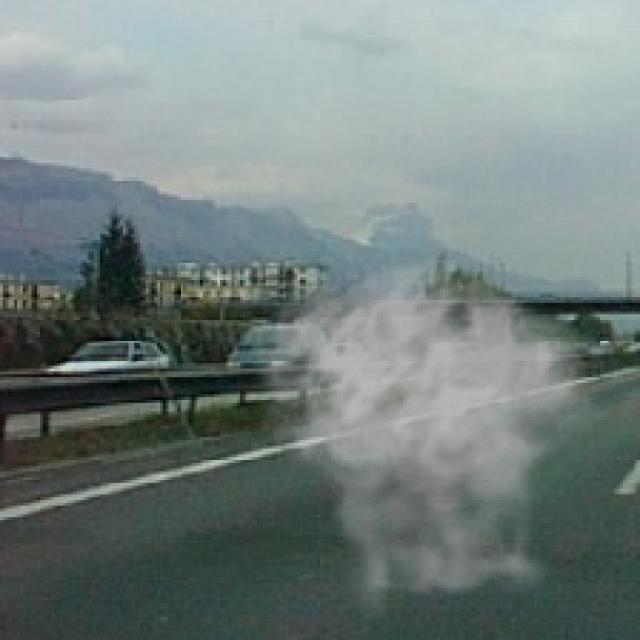smoke: (243, 257, 617, 629)
